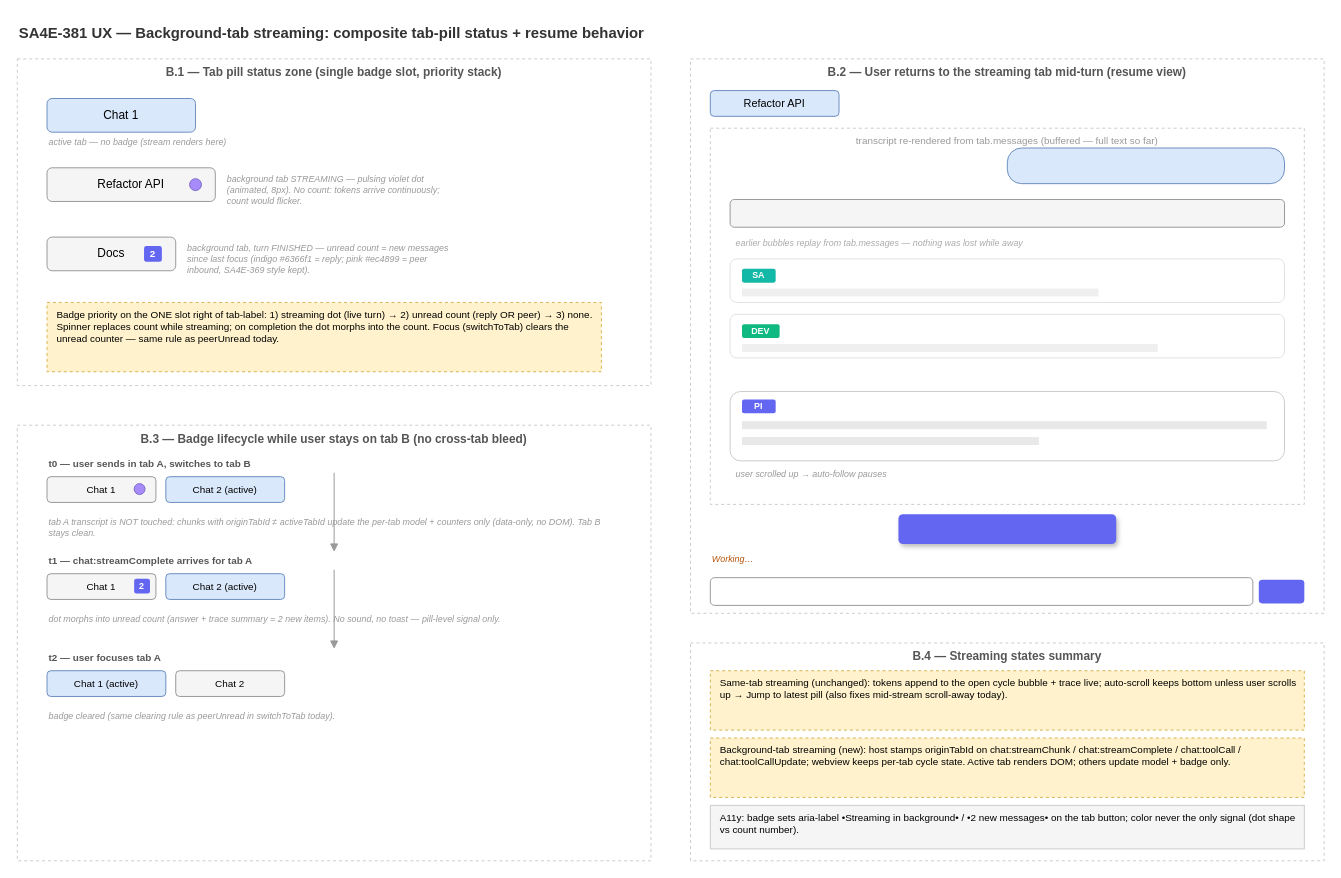
This 1341x878 diagram has some shape labels left out. The shapes that lost their labels are listed below. From the top down, each one's centre as x and y in pixels, then its label:
At point 1145,165: "Refactor the routing layer".
At point 1007,212: "▸ ⚙ Work trace · running… 2 tools · 8s".
At point 1008,530: "↓ Jump to latest · streaming".
At point 1281,591: "Send".
